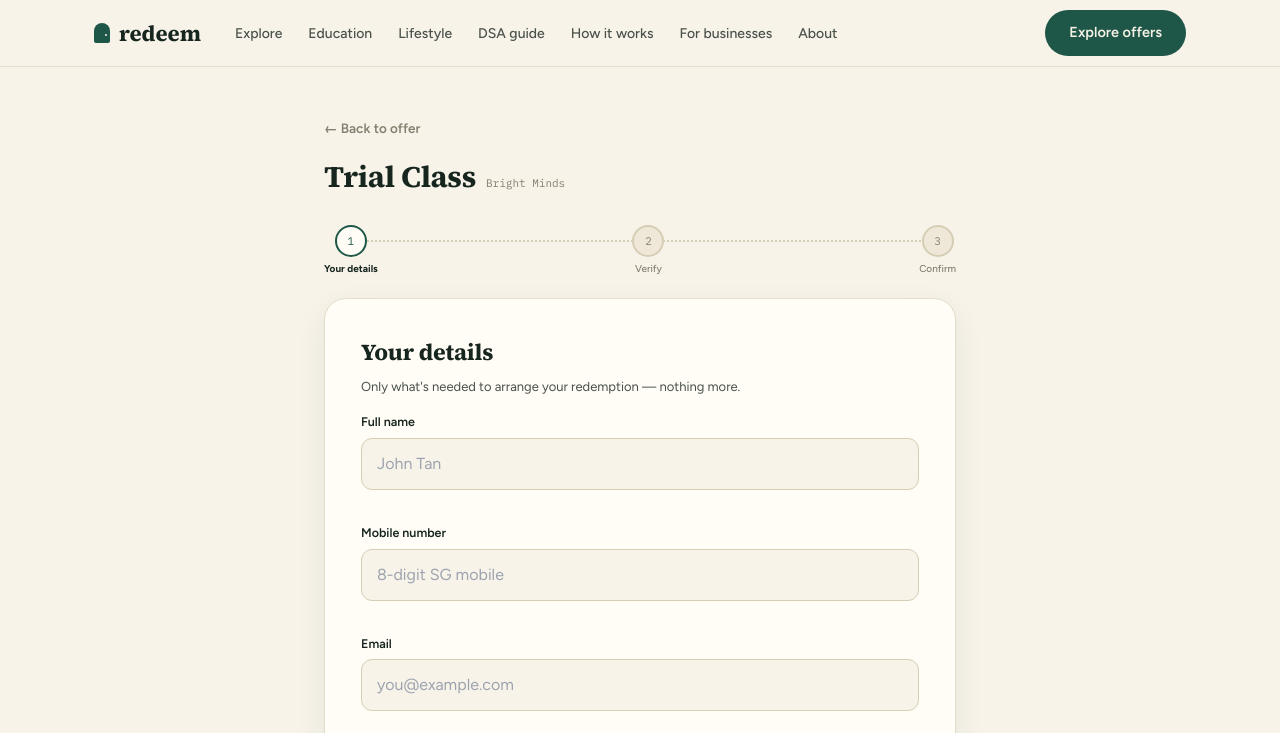
Scenario: MarketplaceFlow — per-field errors are announced › gives each field error an alert role and ties it to its input
Advance with an invalid phone so the details step reports errors.
In the field with placeholder "John Tan": (640, 464) [361, 438, 919, 490], type "Jane Tan"
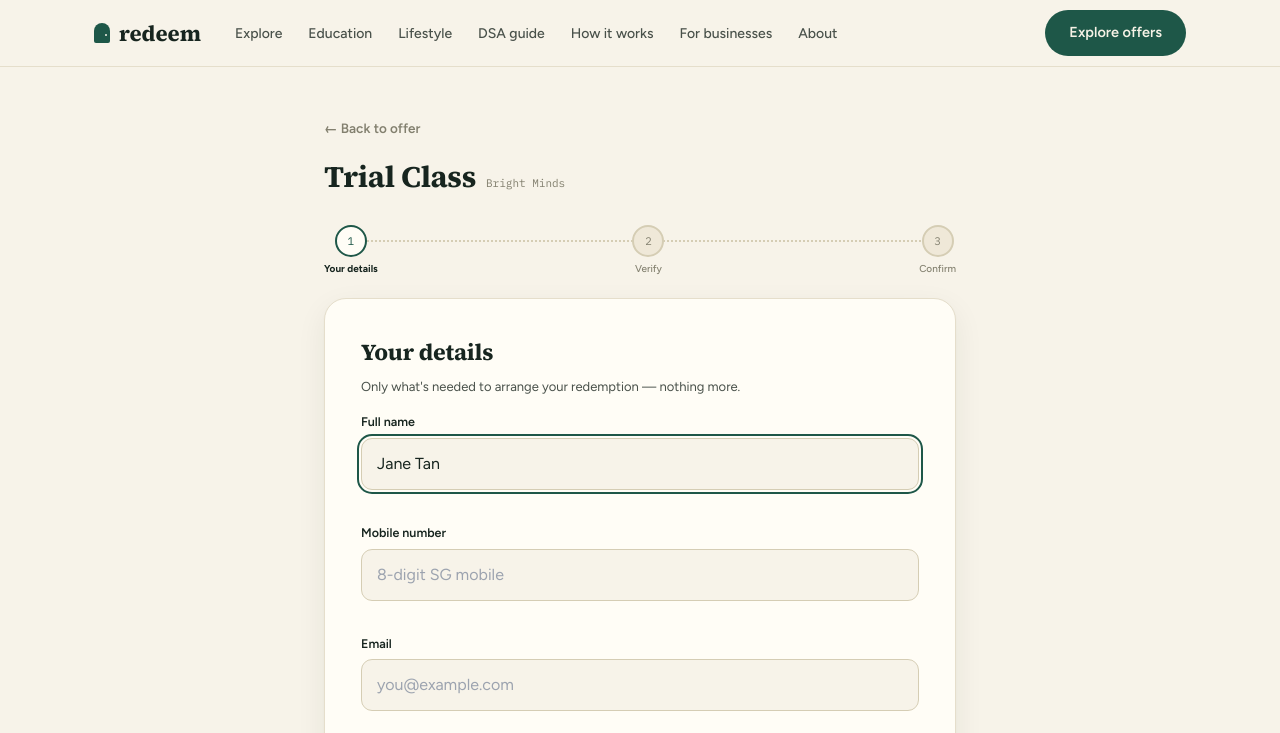
In the field with placeholder "8-digit SG mobile": (640, 575) [361, 549, 919, 601], type "11234567"
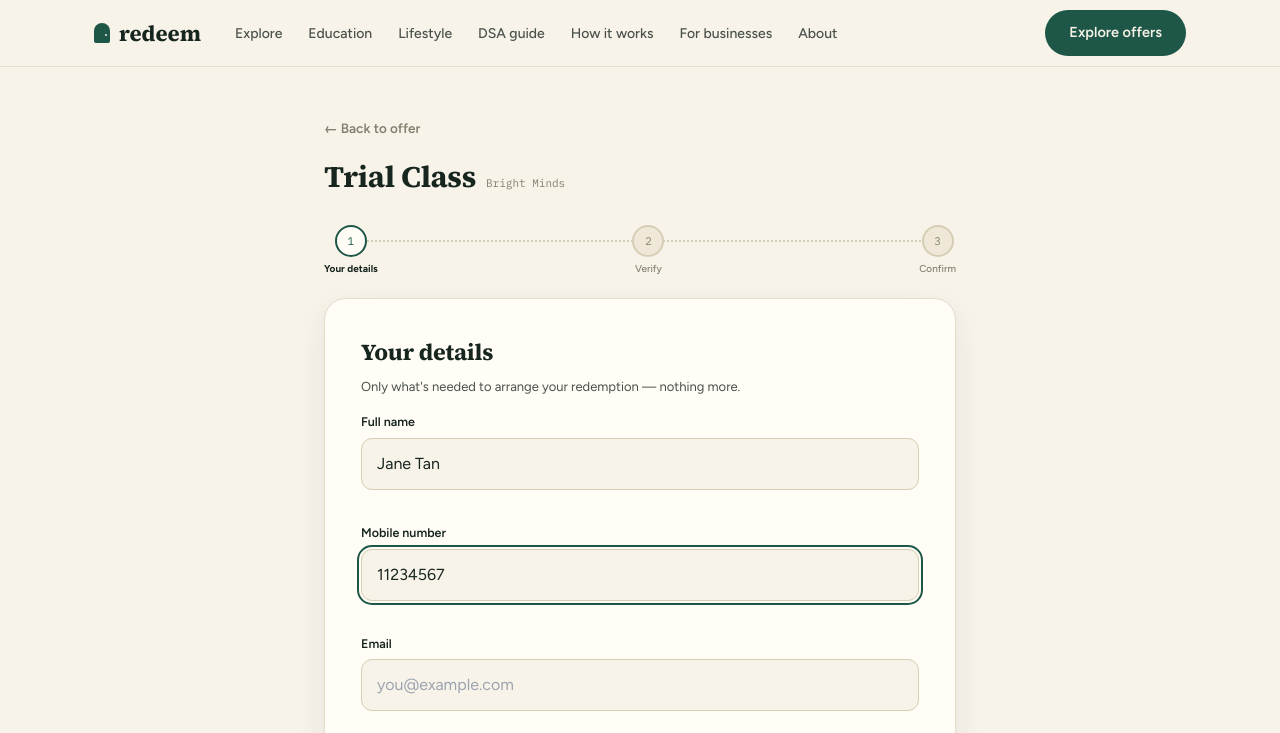
In the field with placeholder "you@example.com": (640, 685) [361, 659, 919, 711], type "jane@example.com"
(page scrolled)
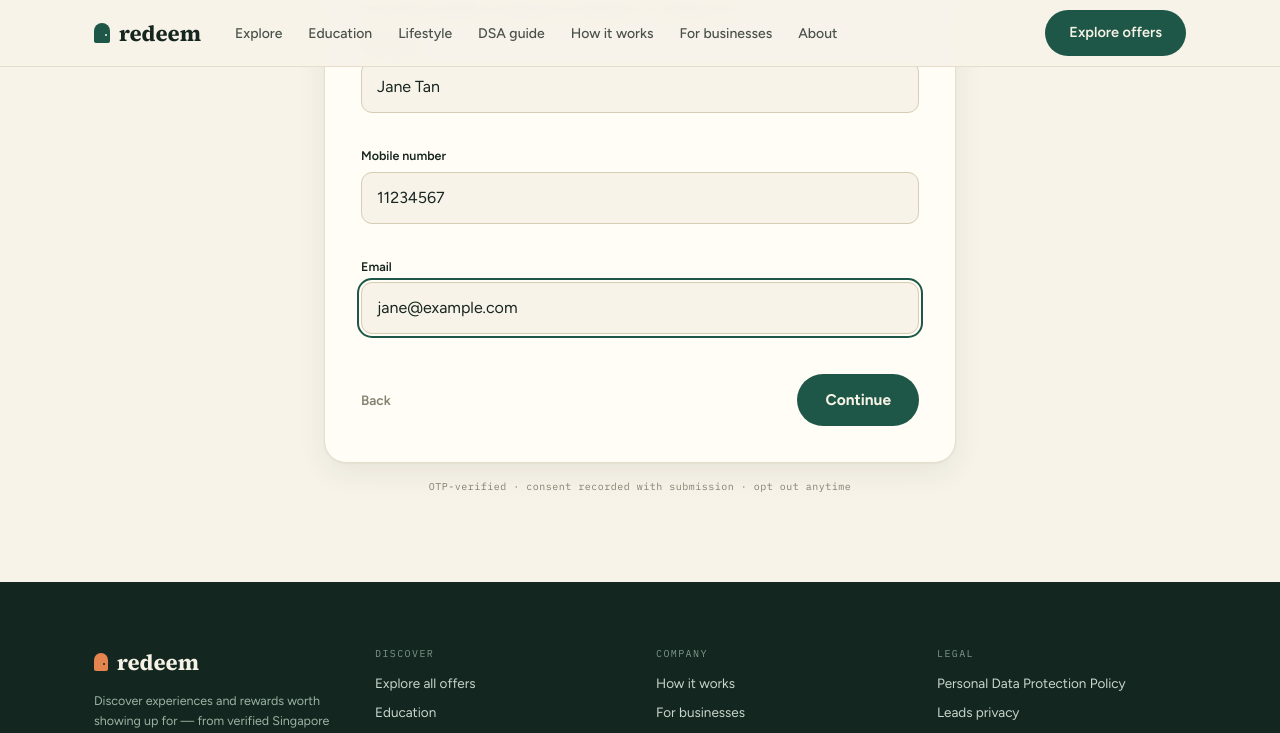
Click the button "Continue": (858, 400) [798, 374, 919, 426]
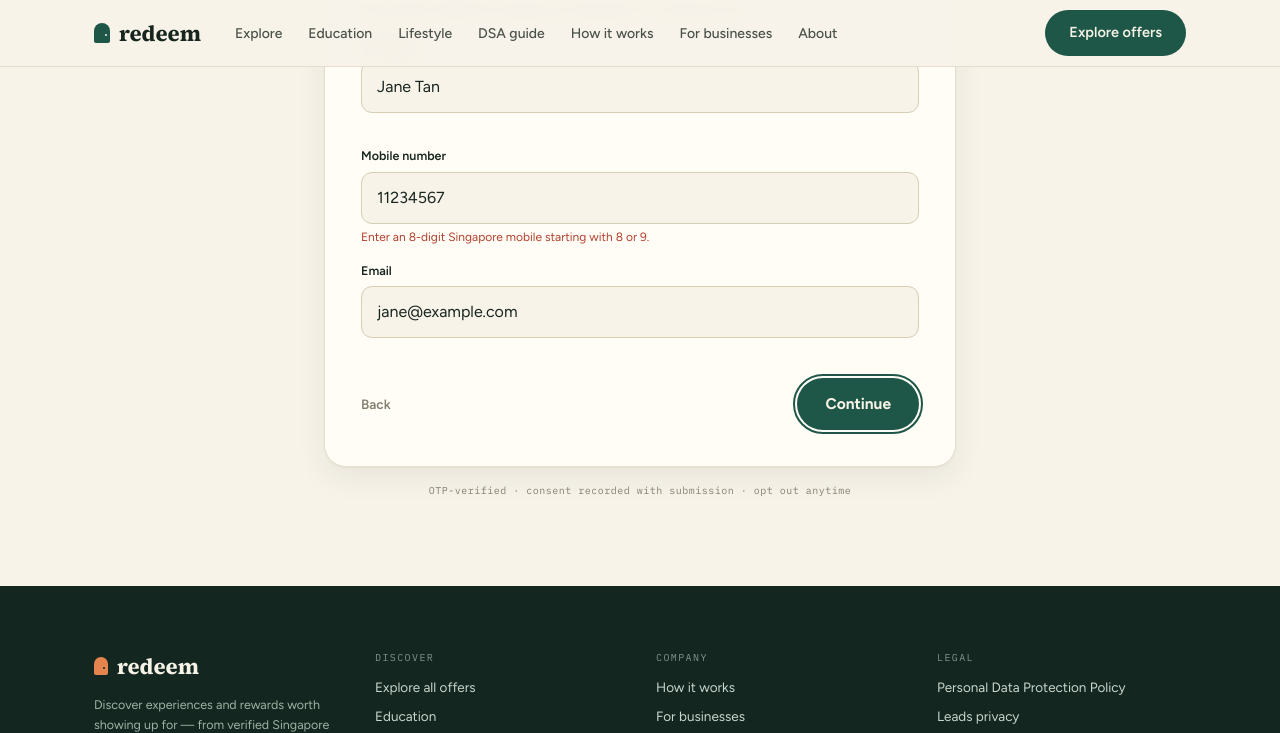
Check: the message with id "rm-err-phone" shows "Singapore mobile", box [361, 230, 649, 244]
